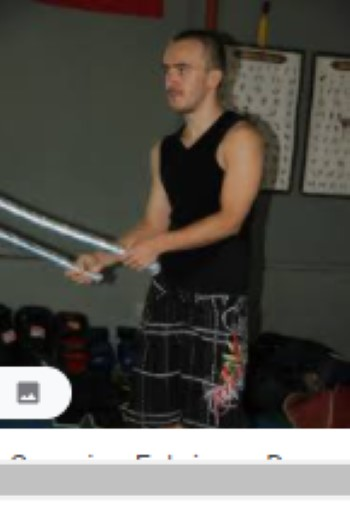baston_e: (6, 191, 160, 261), (3, 226, 78, 272)
baston_v: (141, 257, 166, 277), (91, 268, 107, 286)
